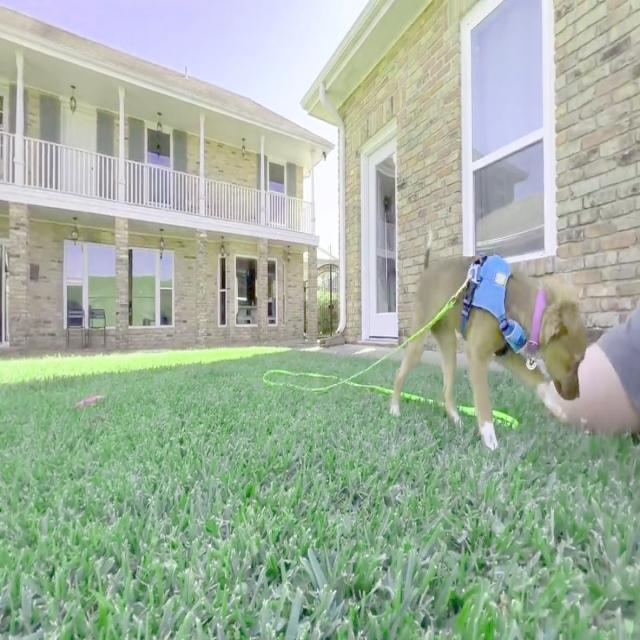Dog: (390, 230, 587, 450)
